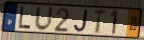1: (110, 10, 120, 36)
2: (54, 7, 70, 33)
J: (73, 10, 89, 33)
L: (18, 5, 32, 30)
T: (93, 9, 108, 35)
U: (34, 5, 55, 33)
